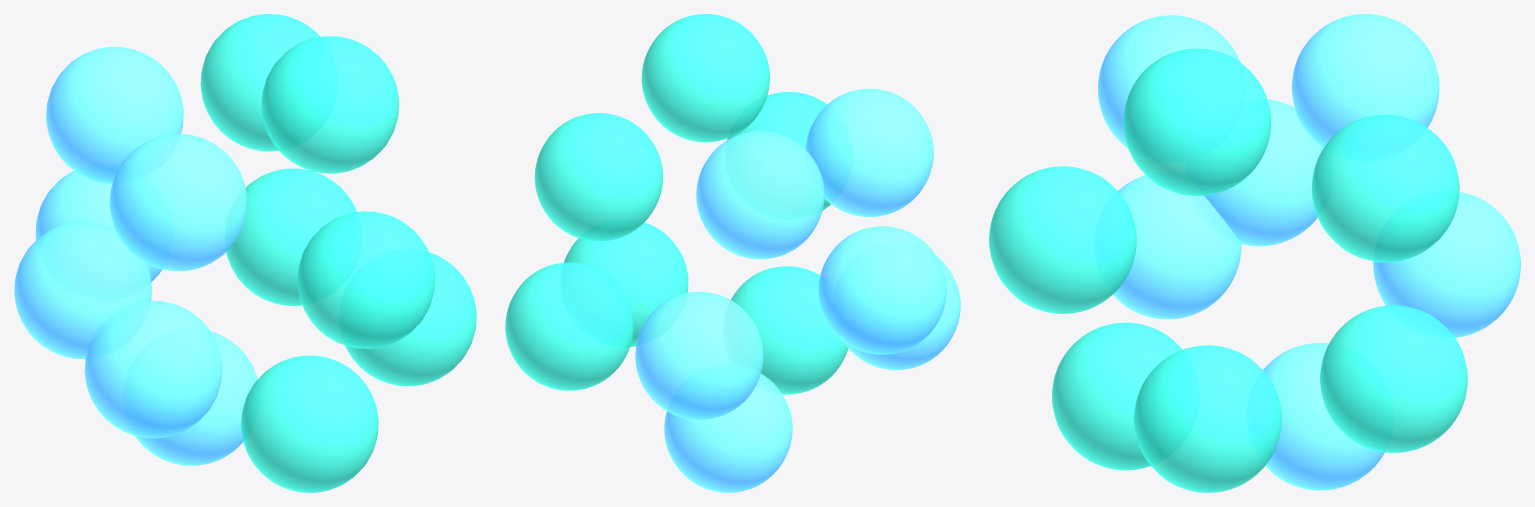
File: uuon-electron-cloud-animated.glb
The picture shows the model from 3 angles, left to right: view 1: azimuth 30°, elevation 25°; view 2: azimuth 150°, elevation 25°; view 3: azimuth 270°, elevation 25°; orthographic projection. The views are drawn at different scales.
Visible parts, largest first — view 1: 44980377-cf4e-4a94-a36e-5ab1e19345d4, e599b8bc-702c-44ed-89a9-af950ebfd0ff, baba0dc8-d711-47bc-b688-b52fce5ce9f4, 59b3e8a8-93d4-4557-922e-46b6c3f9b400, 348a2805-fd15-4bb9-ae61-946b0cbad1d4, de45171e-c809-4c9a-90c0-46ac0bbaf433, 4b44aa32-c593-43df-b643-b876e79f005d, 63158004-912c-49c0-b477-5f1e00c45ede, 7b56da7c-c5b3-4d9c-808a-a28091646d54, dfa67c31-020b-4c1f-9288-74471e37a2d7, 52e9759b-1d09-4f1e-ae5a-86d21e53a243, 7887bbf1-f6fc-4812-b66a-86f8347d4c70; view 2: 7887bbf1-f6fc-4812-b66a-86f8347d4c70, 63158004-912c-49c0-b477-5f1e00c45ede, 4b44aa32-c593-43df-b643-b876e79f005d, de45171e-c809-4c9a-90c0-46ac0bbaf433, 7b56da7c-c5b3-4d9c-808a-a28091646d54, e599b8bc-702c-44ed-89a9-af950ebfd0ff, baba0dc8-d711-47bc-b688-b52fce5ce9f4, 52e9759b-1d09-4f1e-ae5a-86d21e53a243, 44980377-cf4e-4a94-a36e-5ab1e19345d4, dfa67c31-020b-4c1f-9288-74471e37a2d7, 348a2805-fd15-4bb9-ae61-946b0cbad1d4, 59b3e8a8-93d4-4557-922e-46b6c3f9b400; view 3: 63158004-912c-49c0-b477-5f1e00c45ede, e599b8bc-702c-44ed-89a9-af950ebfd0ff, 7b56da7c-c5b3-4d9c-808a-a28091646d54, dfa67c31-020b-4c1f-9288-74471e37a2d7, 59b3e8a8-93d4-4557-922e-46b6c3f9b400, de45171e-c809-4c9a-90c0-46ac0bbaf433, 348a2805-fd15-4bb9-ae61-946b0cbad1d4, 7887bbf1-f6fc-4812-b66a-86f8347d4c70, 44980377-cf4e-4a94-a36e-5ab1e19345d4, 52e9759b-1d09-4f1e-ae5a-86d21e53a243, 4b44aa32-c593-43df-b643-b876e79f005d, baba0dc8-d711-47bc-b688-b52fce5ce9f4.
Part boxes in pixels (left/top/right/bottom): 44980377-cf4e-4a94-a36e-5ab1e19345d4: left=241, top=355, right=378, bottom=492; e599b8bc-702c-44ed-89a9-af950ebfd0ff: left=261, top=36, right=398, bottom=173; baba0dc8-d711-47bc-b688-b52fce5ce9f4: left=109, top=134, right=247, bottom=271; 59b3e8a8-93d4-4557-922e-46b6c3f9b400: left=297, top=211, right=434, bottom=348; 348a2805-fd15-4bb9-ae61-946b0cbad1d4: left=84, top=301, right=222, bottom=438; de45171e-c809-4c9a-90c0-46ac0bbaf433: left=46, top=47, right=183, bottom=184; 4b44aa32-c593-43df-b643-b876e79f005d: left=14, top=221, right=151, bottom=359; 63158004-912c-49c0-b477-5f1e00c45ede: left=226, top=168, right=356, bottom=305; 7b56da7c-c5b3-4d9c-808a-a28091646d54: left=200, top=14, right=320, bottom=151; dfa67c31-020b-4c1f-9288-74471e37a2d7: left=345, top=252, right=476, bottom=386; 52e9759b-1d09-4f1e-ae5a-86d21e53a243: left=135, top=331, right=257, bottom=465; 7887bbf1-f6fc-4812-b66a-86f8347d4c70: left=35, top=171, right=161, bottom=281; 7887bbf1-f6fc-4812-b66a-86f8347d4c70: left=635, top=291, right=763, bottom=419; 63158004-912c-49c0-b477-5f1e00c45ede: left=505, top=262, right=633, bottom=390; 4b44aa32-c593-43df-b643-b876e79f005d: left=818, top=226, right=946, bottom=354; de45171e-c809-4c9a-90c0-46ac0bbaf433: left=696, top=131, right=824, bottom=259; 7b56da7c-c5b3-4d9c-808a-a28091646d54: left=534, top=113, right=662, bottom=241; e599b8bc-702c-44ed-89a9-af950ebfd0ff: left=641, top=14, right=769, bottom=142; baba0dc8-d711-47bc-b688-b52fce5ce9f4: left=805, top=88, right=933, bottom=217; 52e9759b-1d09-4f1e-ae5a-86d21e53a243: left=664, top=373, right=792, bottom=492; 44980377-cf4e-4a94-a36e-5ab1e19345d4: left=731, top=266, right=848, bottom=394; dfa67c31-020b-4c1f-9288-74471e37a2d7: left=564, top=222, right=688, bottom=346; 348a2805-fd15-4bb9-ae61-946b0cbad1d4: left=843, top=256, right=960, bottom=370; 59b3e8a8-93d4-4557-922e-46b6c3f9b400: left=727, top=92, right=830, bottom=210; 63158004-912c-49c0-b477-5f1e00c45ede: left=1320, top=305, right=1467, bottom=452; e599b8bc-702c-44ed-89a9-af950ebfd0ff: left=1123, top=48, right=1271, bottom=195; 7b56da7c-c5b3-4d9c-808a-a28091646d54: left=1311, top=114, right=1459, bottom=262; dfa67c31-020b-4c1f-9288-74471e37a2d7: left=1134, top=345, right=1281, bottom=492; 59b3e8a8-93d4-4557-922e-46b6c3f9b400: left=989, top=166, right=1136, bottom=313; de45171e-c809-4c9a-90c0-46ac0bbaf433: left=1291, top=14, right=1439, bottom=147; 348a2805-fd15-4bb9-ae61-946b0cbad1d4: left=1113, top=175, right=1241, bottom=319; 7887bbf1-f6fc-4812-b66a-86f8347d4c70: left=1373, top=192, right=1520, bottom=337; 44980377-cf4e-4a94-a36e-5ab1e19345d4: left=1052, top=322, right=1182, bottom=470; 52e9759b-1d09-4f1e-ae5a-86d21e53a243: left=1263, top=343, right=1384, bottom=490; 4b44aa32-c593-43df-b643-b876e79f005d: left=1204, top=99, right=1323, bottom=246; baba0dc8-d711-47bc-b688-b52fce5ce9f4: left=1098, top=15, right=1240, bottom=148.
Bounding box in the file's own units: 3.17 × 3.16 × 3.24.
